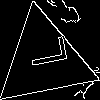L: (19, 35, 68, 71)
